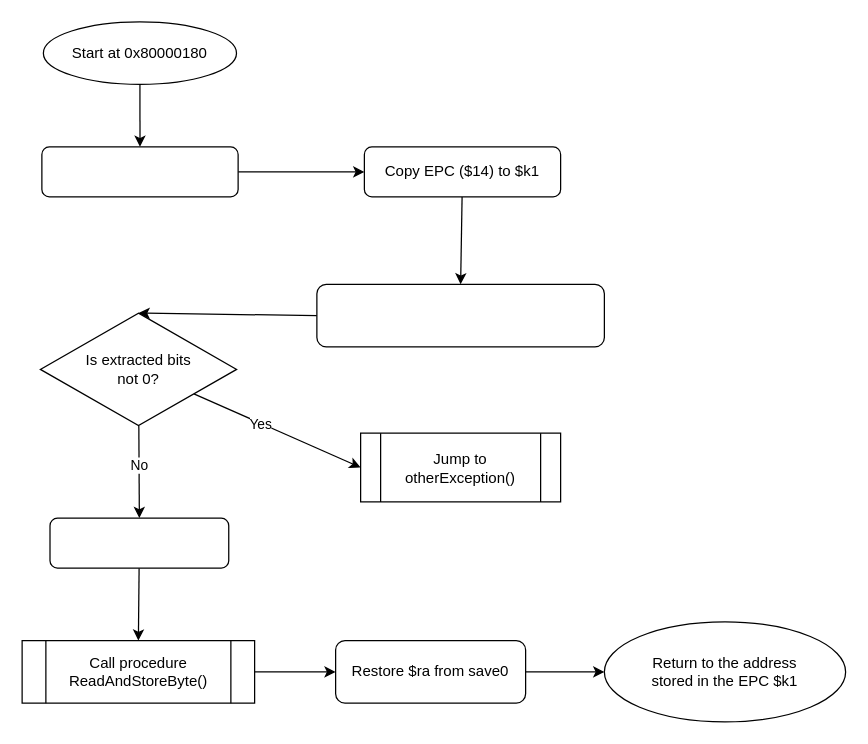
Some shapes in this 868 by 744 pixel diagram are drawn without their labels. Each missing label, with the centre of its shape:
Copy Cause ($13) to $k0: the point at 139,171
Mask bits 5-2 of Cause in $k0 andi $k0, $k0, 0x003c: the point at 460,315
Save $ra to save0: the point at 139,542
